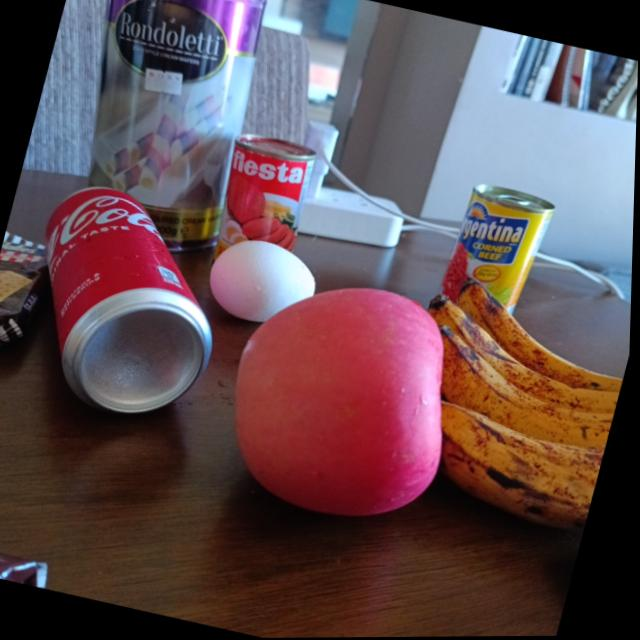apple: (211, 267, 484, 537)
coke: (6, 182, 247, 436)
egg: (204, 228, 328, 332)
